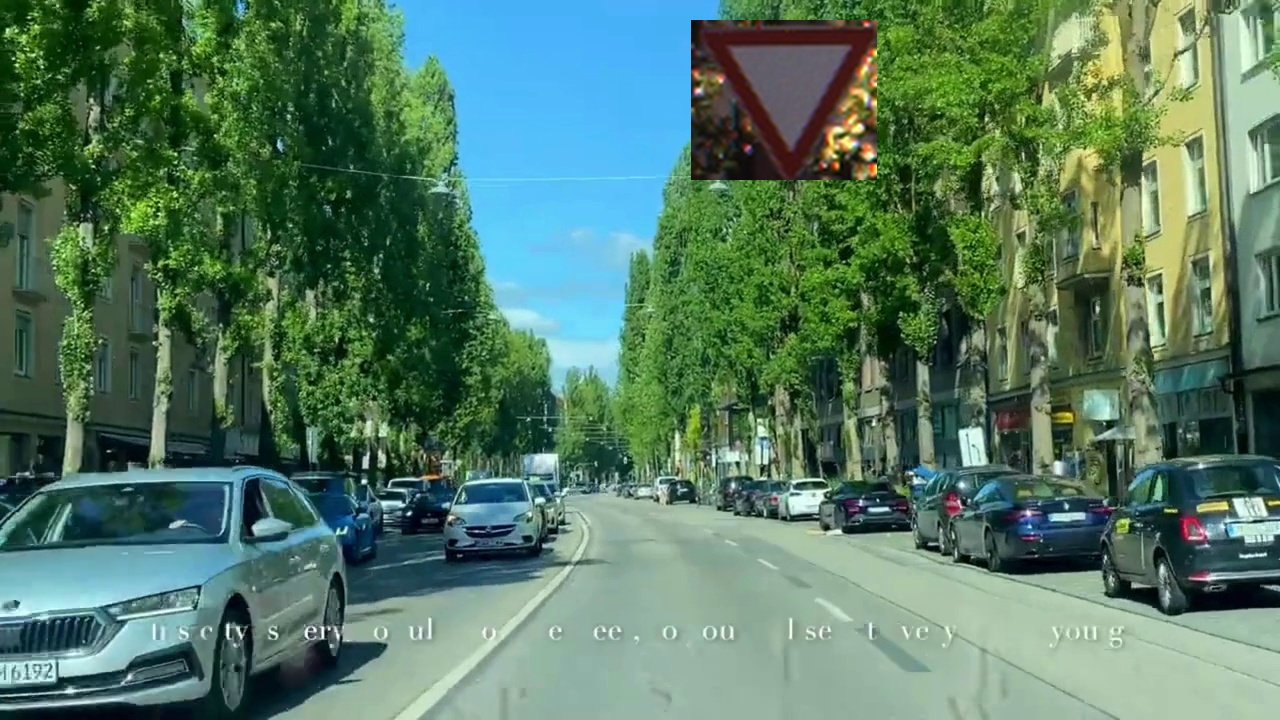Yield: (691, 20, 877, 180)
